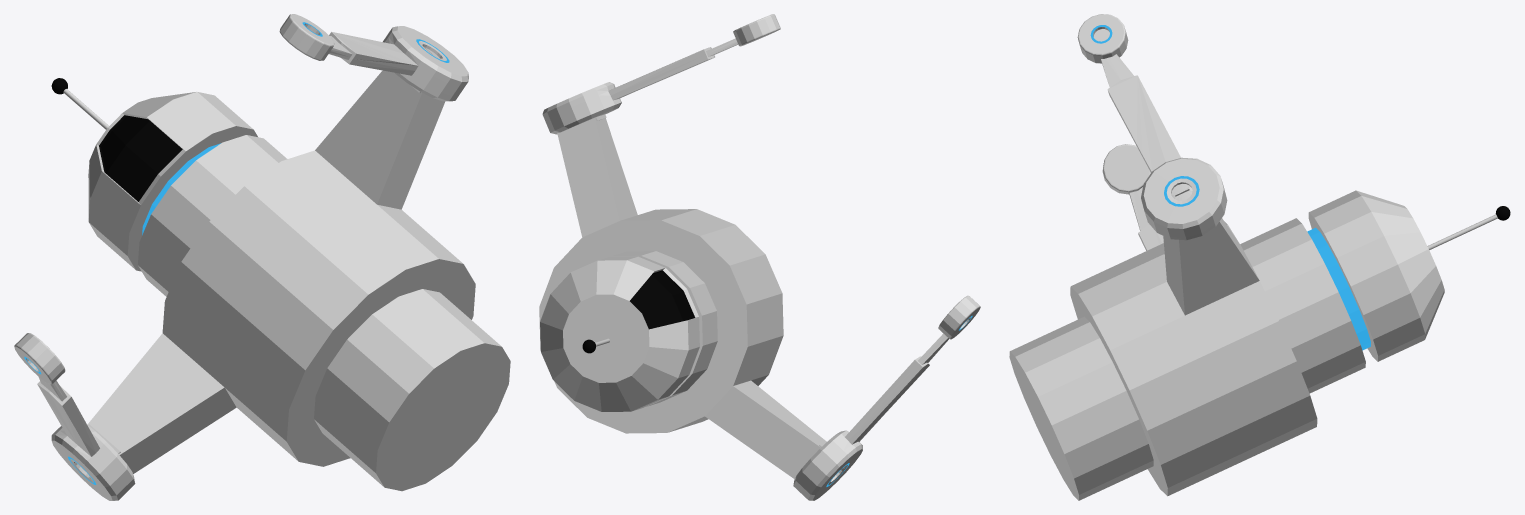
Rendered from Robot Navi.fbx.
3 views of the same model, side by side, from view 1: azimuth 30°, elevation 25°; view 2: azimuth 150°, elevation 25°; view 3: azimuth 270°, elevation 25° (orthographic). The views are drawn at different scales.
Parts seen in each view (by area): view 1: Zylinder, Zylinder_3, Zylinder_4, Zylinder_1; view 2: Zylinder, Zylinder_3, Zylinder_1, Zylinder_4; view 3: Zylinder, Zylinder_3, Zylinder_4, Zylinder_1.
Boxes of the visible parts, box(x1,y1,x2,y2) form: Zylinder: box(87, 70, 510, 491); Zylinder_3: box(37, 26, 468, 500); Zylinder_4: box(279, 14, 334, 60); Zylinder_1: box(14, 333, 65, 384); Zylinder: box(539, 114, 826, 479); Zylinder_3: box(542, 38, 948, 500); Zylinder_1: box(938, 295, 980, 339); Zylinder_4: box(733, 14, 780, 46); Zylinder: box(1009, 190, 1444, 500); Zylinder_3: box(1101, 54, 1227, 250); Zylinder_4: box(1077, 14, 1128, 63); Zylinder_1: box(1102, 144, 1150, 194).
Size of the model in its own units: 206 by 205 by 210.
